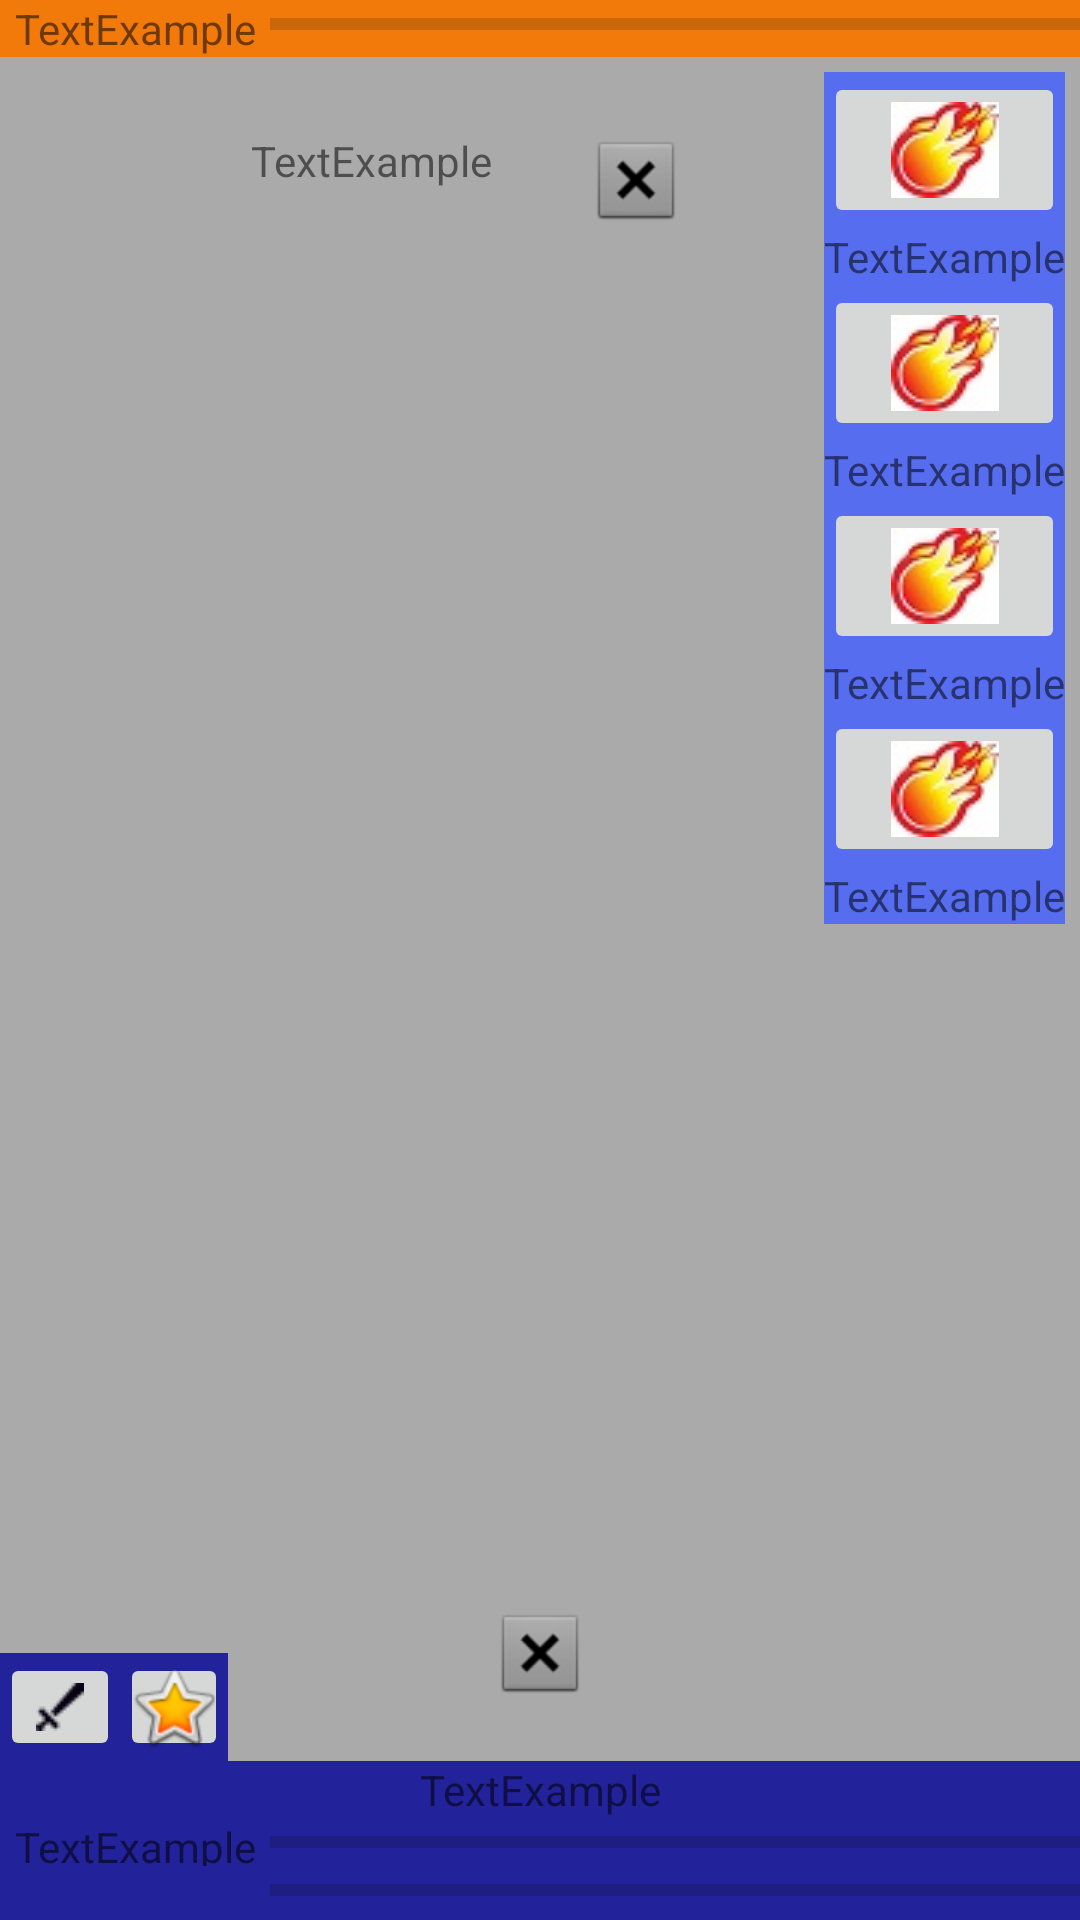

Named icons in this screenshot (1080*1920) and their bounding boxes, bbox=[x1, y1, x2, y2]:
fireball: bbox=[836, 90, 1053, 210], bbox=[836, 303, 1053, 423], bbox=[836, 516, 1053, 636], bbox=[836, 729, 1053, 849]
star on: bbox=[132, 1670, 216, 1746]
sword: bbox=[12, 1671, 108, 1743]
